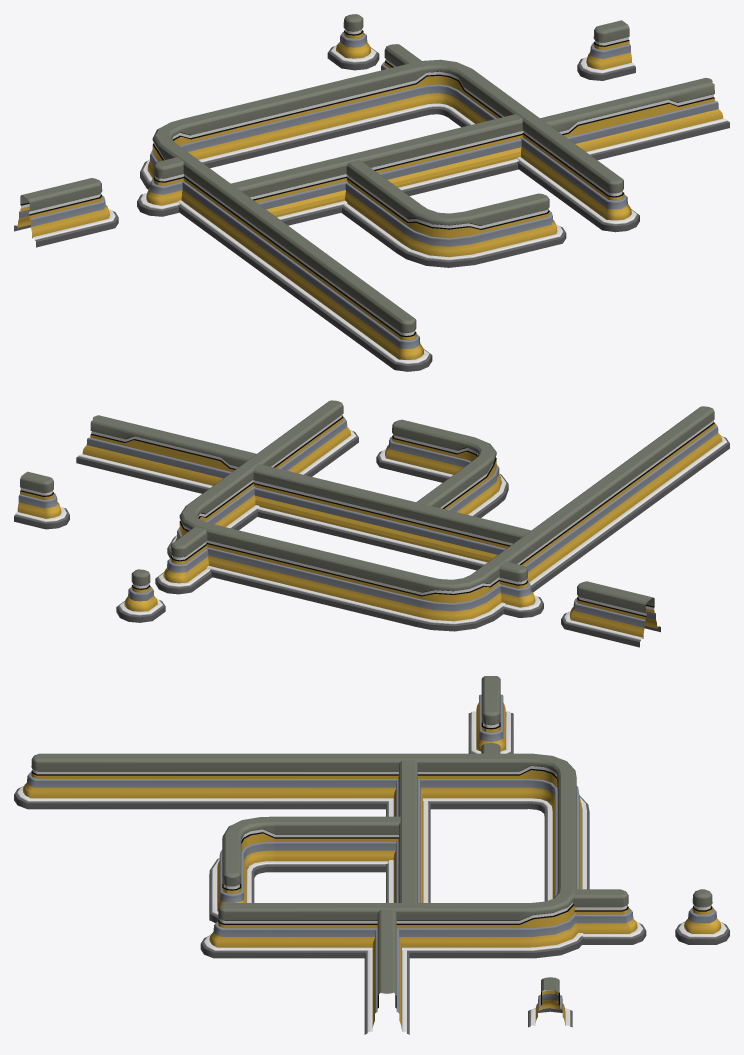
Rendered from Small walls.fbx.
3 renders of one model, top to bottom at view 1: azimuth 30°, elevation 25°; view 2: azimuth 150°, elevation 25°; view 3: azimuth 270°, elevation 25°, orthographic. The views are drawn at different scales.
Visible parts, largest first — view 1: Small_wall_L6, Small_wall_L7, Small_wallv1_4, Small_wall_L62, Small_wall_L61, Small_wall_L63, Small_wallv1_79, Small_wall_L105; view 2: Small_wall_L6, Small_wall_L7, Small_wallv1_4, Small_wall_L62, Small_wall_L105, Small_wall_L61, Small_wall_L63, Small_wallv1_79; view 3: Small_wall_L6, Small_wall_L7, Small_wallv1_4, Small_wall_L105, Small_wall_L62, Small_wallv1_79, Small_wall_L61.
Part boxes in pixels (bbox=[...]): Small_wall_L6: bbox=[140, 59, 639, 371]; Small_wall_L7: bbox=[231, 114, 566, 267]; Small_wallv1_4: bbox=[540, 78, 729, 160]; Small_wall_L62: bbox=[14, 178, 118, 247]; Small_wall_L61: bbox=[577, 20, 635, 80]; Small_wall_L63: bbox=[137, 157, 183, 216]; Small_wallv1_79: bbox=[327, 14, 379, 70]; Small_wall_L105: bbox=[381, 44, 421, 70]; Small_wall_L6: bbox=[167, 400, 729, 631]; Small_wall_L7: bbox=[253, 419, 531, 570]; Small_wallv1_4: bbox=[76, 415, 256, 493]; Small_wall_L62: bbox=[561, 581, 660, 647]; Small_wall_L105: bbox=[155, 526, 211, 594]; Small_wall_L61: bbox=[14, 471, 69, 529]; Small_wall_L63: bbox=[499, 561, 543, 617]; Small_wallv1_79: bbox=[116, 569, 165, 622]; Small_wall_L6: bbox=[14, 753, 589, 958]; Small_wall_L7: bbox=[209, 760, 430, 922]; Small_wallv1_4: bbox=[364, 909, 409, 1034]; Small_wall_L105: bbox=[573, 889, 646, 944]; Small_wall_L62: bbox=[468, 676, 513, 753]; Small_wallv1_79: bbox=[675, 889, 729, 944]; Small_wall_L61: bbox=[528, 977, 572, 1027].
Bounding box in the file's own units: 582 × 38.44 × 548.
